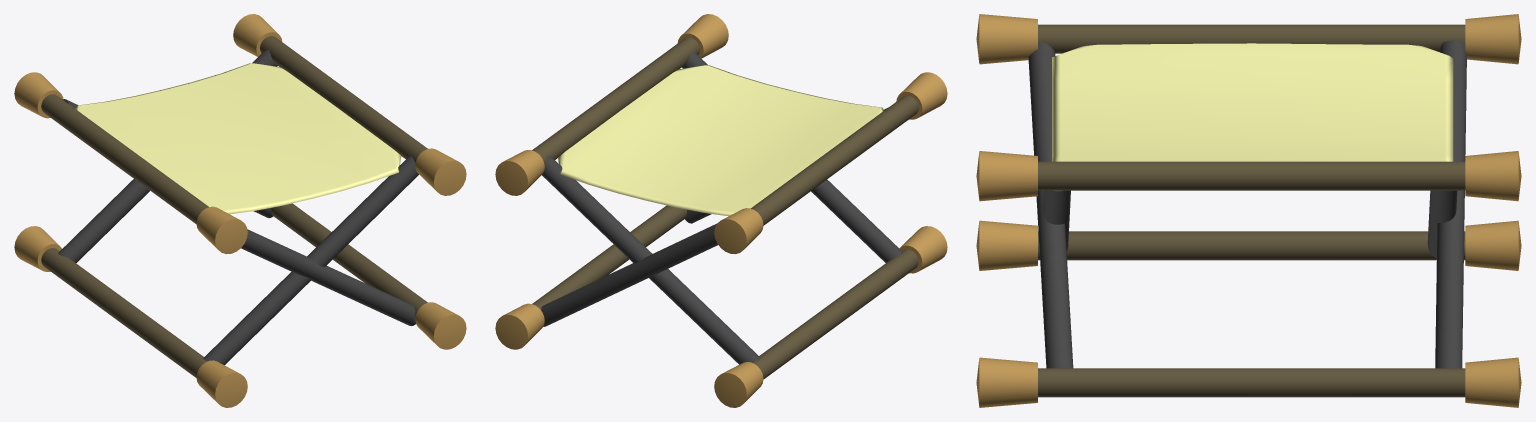
Rendered from chaise01.fbx.
3 renders of one model, left to right at view 1: azimuth 30°, elevation 25°; view 2: azimuth 150°, elevation 25°; view 3: azimuth 270°, elevation 25°, orthographic. The views are drawn at different scales.
Parts seen in each view (by area): view 1: chaise1_pCylinder2; view 2: chaise1_pCylinder2; view 3: chaise1_pCylinder2.
Part boxes in pixels (bbox=[...]): chaise1_pCylinder2: bbox=[14, 14, 466, 407]; chaise1_pCylinder2: bbox=[495, 14, 947, 407]; chaise1_pCylinder2: bbox=[976, 14, 1521, 407].
Bounding box in the file's own units: 2.19 × 1.61 × 3.06.
